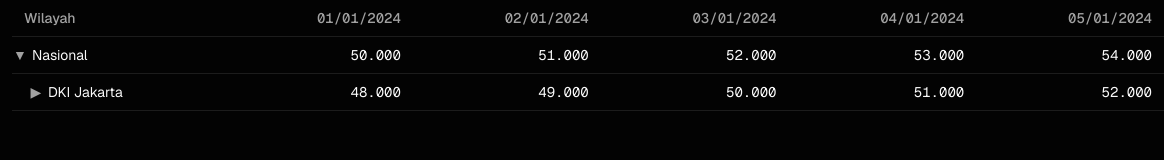
Scenario: GeografisTable › 4. sort asc/desc: click date header once → ↓; click again → ↑
// First click → desc (↓)
Click the button "05/01/2024".
click(1110, 18)  # box [1068,8,1152,28]
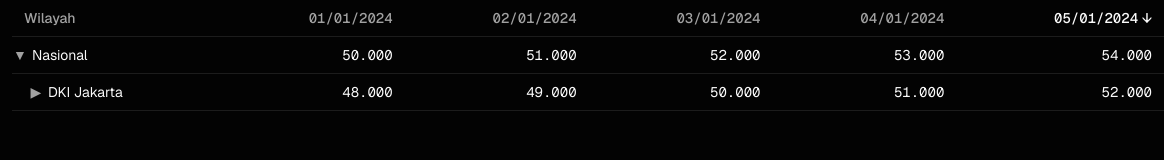
Now the button "05/01/2024 ↓" is shown
// Second click → asc (↑)
Click the button "05/01/2024 ↓".
click(1103, 18)  # box [1054,8,1152,28]
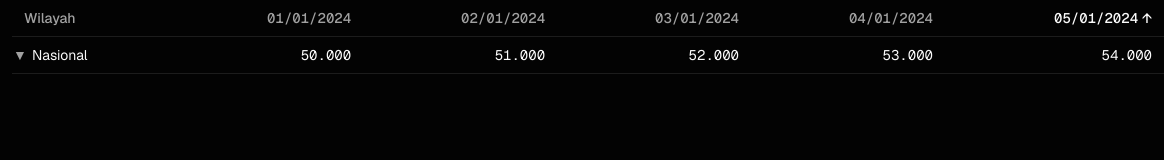
Now the button "05/01/2024 ↑" is shown, box [1054,8,1152,28]
